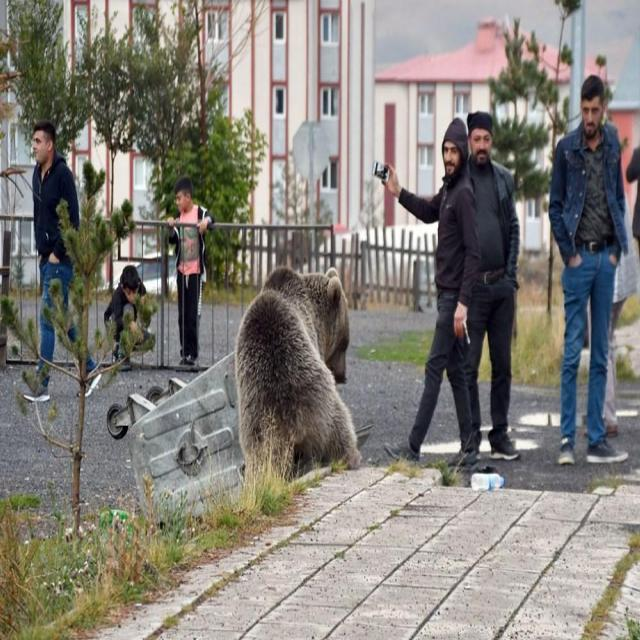Bear: (232, 268, 362, 489)
